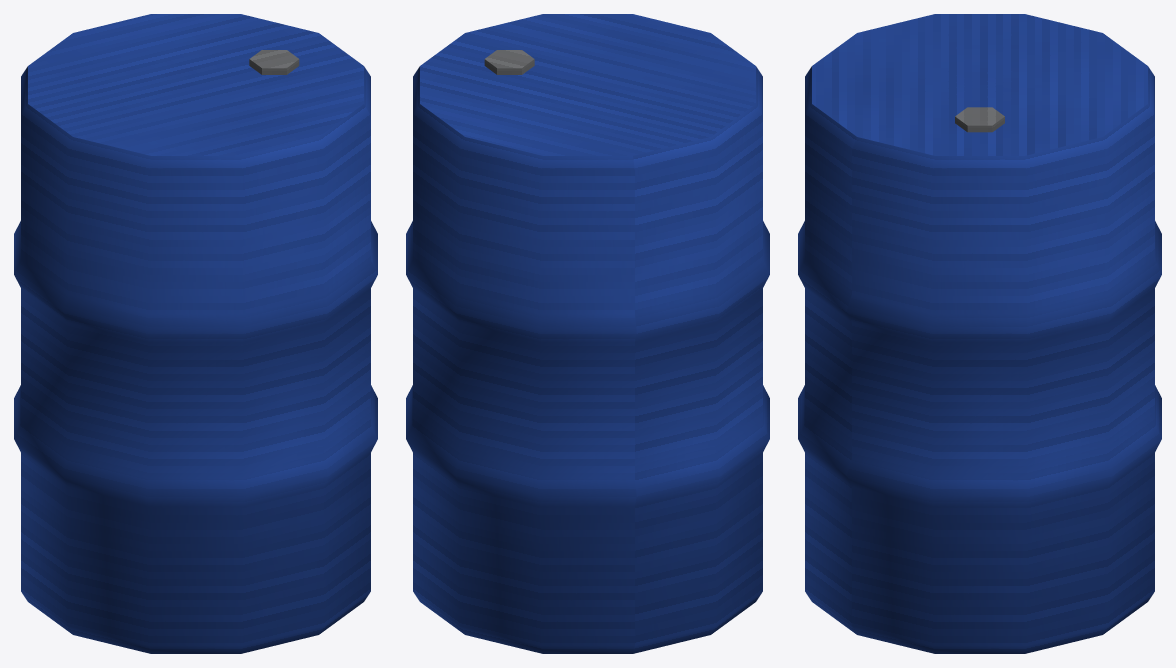
File: tambor_metal.glb
3 renders of one model, left to right at view 1: azimuth 30°, elevation 25°; view 2: azimuth 150°, elevation 25°; view 3: azimuth 270°, elevation 25°, orthographic.
Visible parts, largest first — view 1: Inteiro; view 2: Inteiro; view 3: Inteiro.
Part boxes in pixels (<box>): Inteiro: <box>14,14,377,653</box>; Inteiro: <box>406,14,769,653</box>; Inteiro: <box>798,14,1161,653</box>.
Size of the model in its own units: 0.5826 by 0.892 by 0.5826.
1 material, 1 textured.
